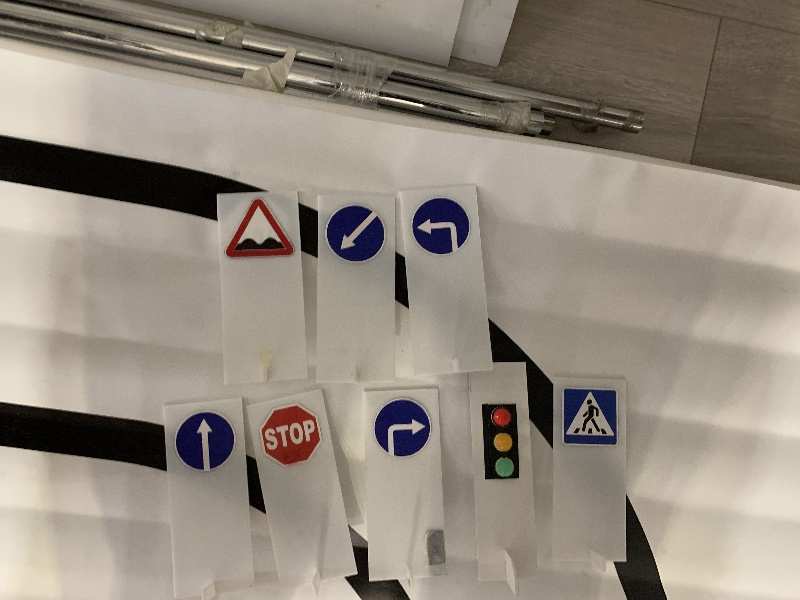Left: (410, 194, 471, 255)
Nerov: (226, 198, 296, 256)
Right: (373, 397, 431, 458)
Stop: (260, 403, 322, 466)
forw: (170, 409, 237, 471)
pesh: (559, 384, 621, 447)
prep: (324, 205, 386, 264)
